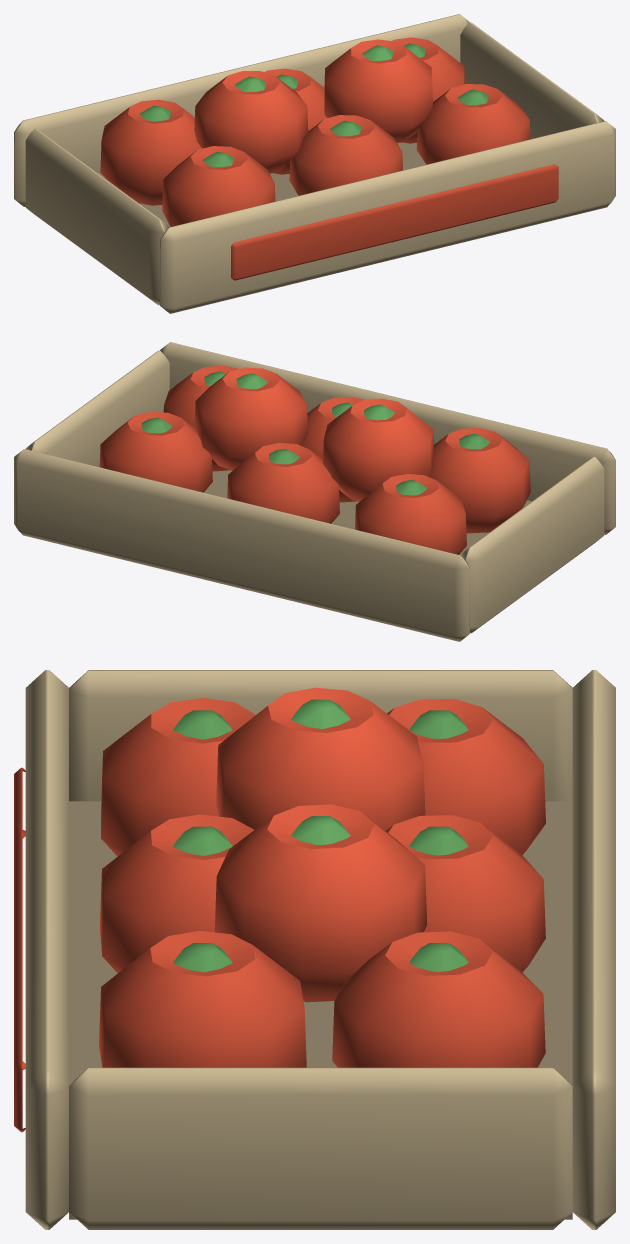
The model's file is ProduceTray_Tomatoes_01.glb.
The picture shows the model from 3 angles, top to bottom: view 1: azimuth 30°, elevation 25°; view 2: azimuth 150°, elevation 25°; view 3: azimuth 270°, elevation 25°; orthographic projection. The views are drawn at different scales.
Visible parts, largest first — view 1: SM_ProduceTray_Tomatoes_01; view 2: SM_ProduceTray_Tomatoes_01; view 3: SM_ProduceTray_Tomatoes_01.
Part boxes in pixels (x1,y1,x2,y2): SM_ProduceTray_Tomatoes_01: [14, 14, 615, 313]; SM_ProduceTray_Tomatoes_01: [14, 342, 615, 641]; SM_ProduceTray_Tomatoes_01: [14, 670, 615, 1229].
Bounding box in the file's own units: 0.5 × 0.1497 × 0.306.
Materials: 1 (1 with a texture image).
